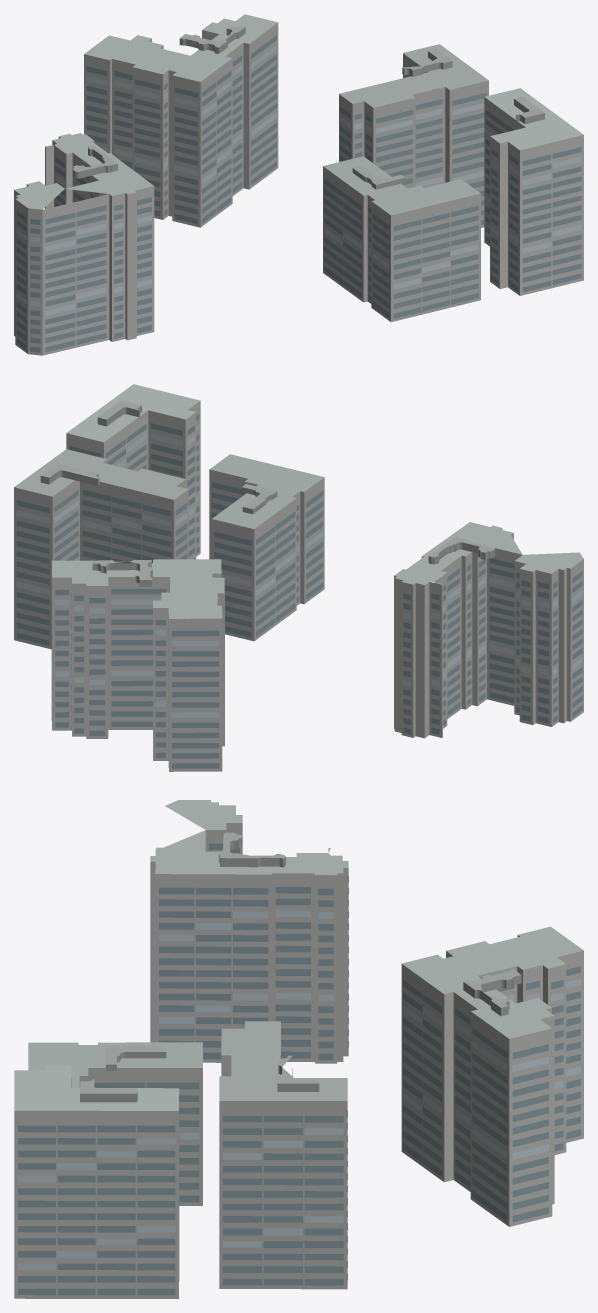
File: apt-a10025564.glb
3 views of the same model, one above another, from view 1: azimuth 30°, elevation 25°; view 2: azimuth 150°, elevation 25°; view 3: azimuth 270°, elevation 25° (orthographic). The views are drawn at different scales.
Parts seen in each view (by area): view 1: apt-a10025564; view 2: apt-a10025564; view 3: apt-a10025564.
Part boxes in pixels (x1,y1,x2,y2): apt-a10025564: (14,14,583,355); apt-a10025564: (14,384,583,771); apt-a10025564: (14,800,583,1298).
Bounding box in the file's own units: 162 × 48 × 126.
